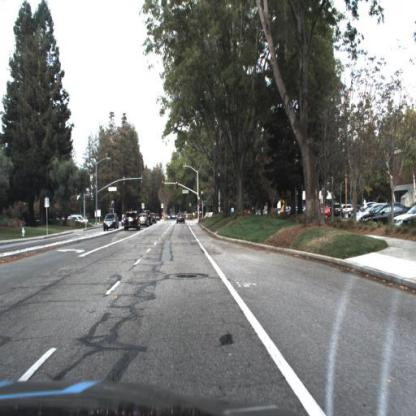car: (360, 204, 409, 230), (122, 208, 142, 231), (103, 212, 121, 233), (125, 213, 140, 231), (104, 215, 118, 231), (174, 210, 188, 225), (141, 213, 148, 226)
